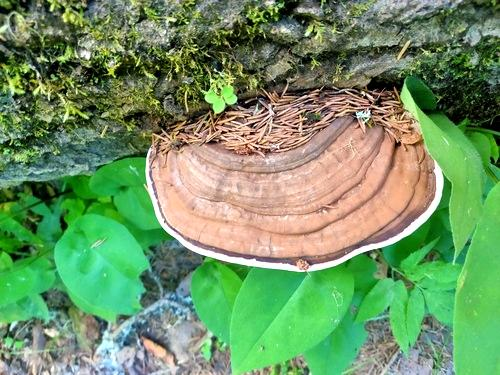Ganoderma - Fruit Body: (145, 93, 446, 272)
